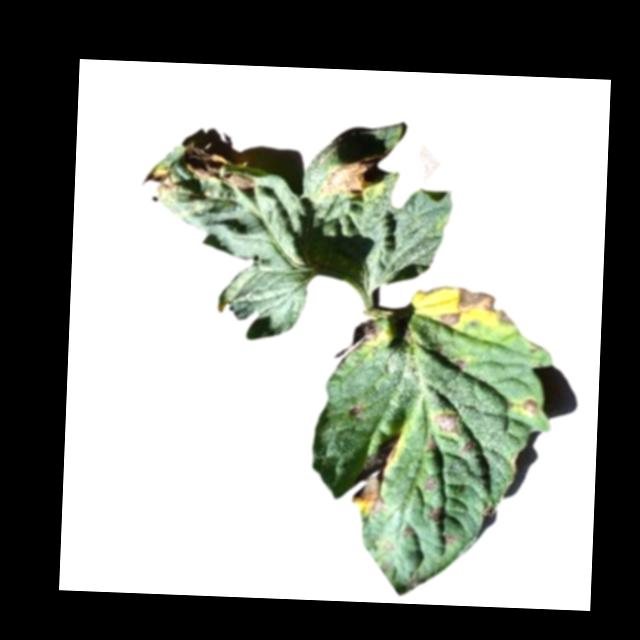Early_blight: (434, 284, 514, 331), (179, 143, 258, 189), (349, 438, 399, 510), (316, 151, 381, 198), (332, 316, 382, 365), (139, 162, 178, 203), (435, 406, 463, 435), (425, 503, 445, 523), (519, 397, 539, 412), (420, 478, 437, 494), (345, 401, 363, 415), (462, 437, 475, 456), (441, 532, 456, 544), (455, 355, 468, 368), (400, 526, 413, 536)
